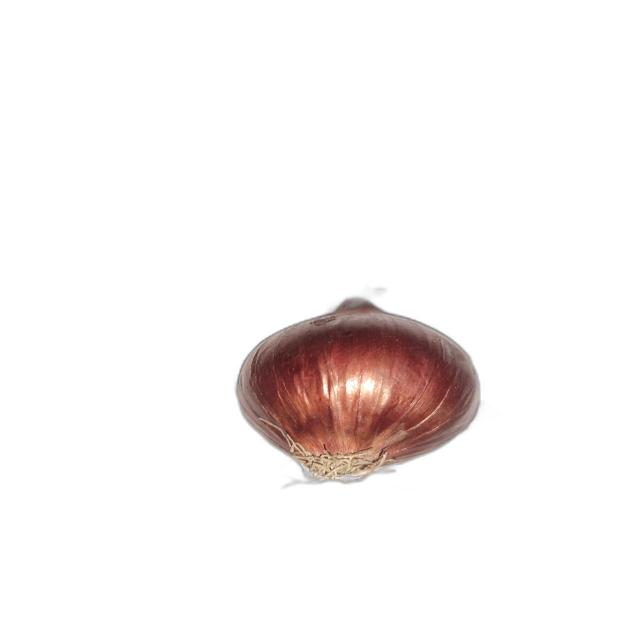onion: (235, 296, 481, 483)
